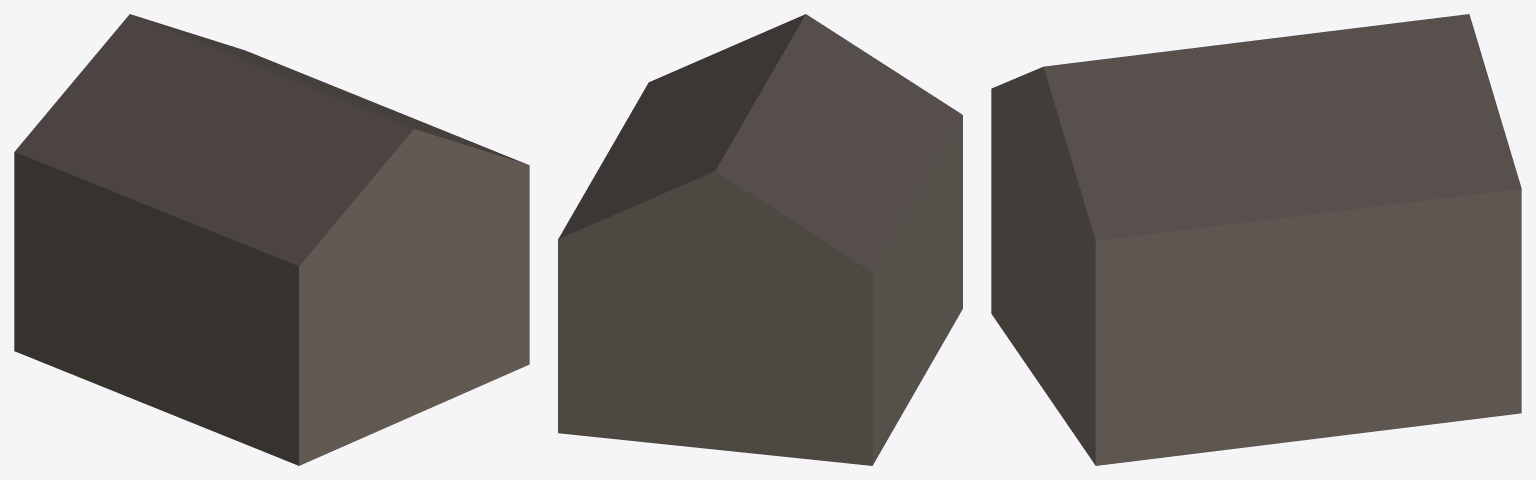
3 renders of one model, left to right at view 1: azimuth 30°, elevation 25°; view 2: azimuth 150°, elevation 25°; view 3: azimuth 270°, elevation 25°, orthographic. The views are drawn at different scales.
Parts seen in each view (by area): view 1: HP-w293398966; view 2: HP-w293398966; view 3: HP-w293398966.
Boxes of the visible parts, left/top/right/bottom form: HP-w293398966: left=14, top=14, right=529, bottom=465; HP-w293398966: left=558, top=14, right=962, bottom=465; HP-w293398966: left=991, top=14, right=1521, bottom=465.
Size of the model in its own units: 11.74 by 8.62 by 12.83.
